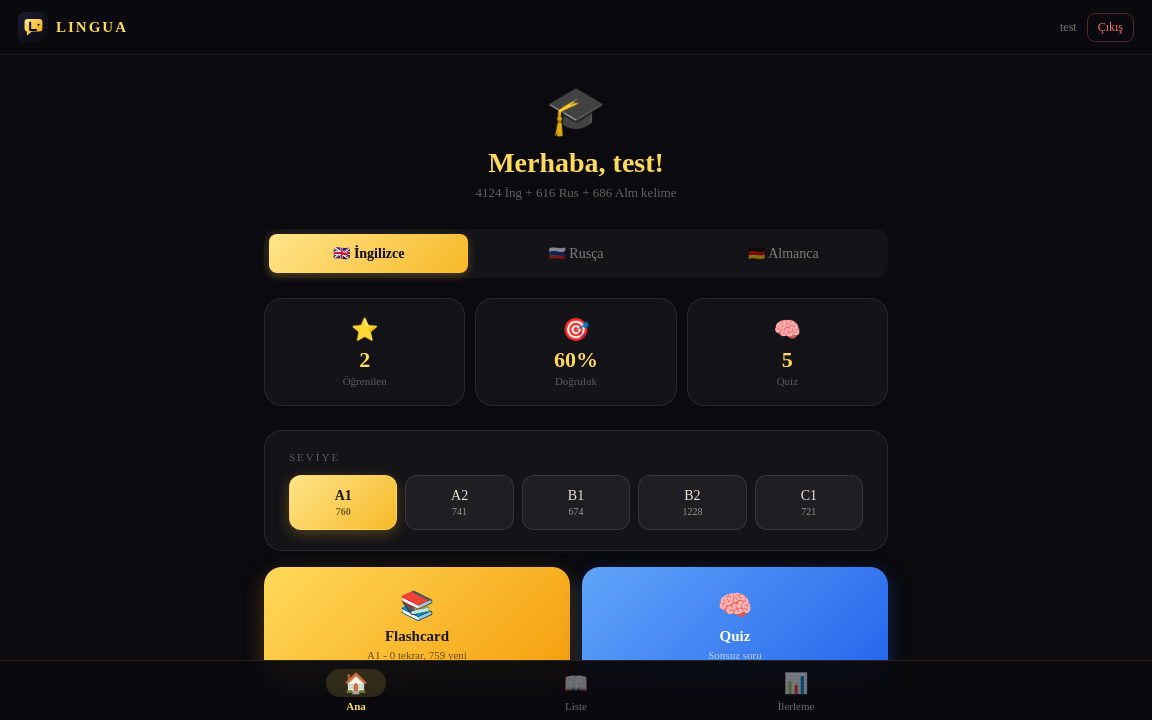
Test: klavye: Boşluk kartı çevirir, 2 puanlar
Click the button "📚 Flashcard A1 - 0 tekrar, 759 yeni" at (417, 625), box [264, 567, 570, 683]
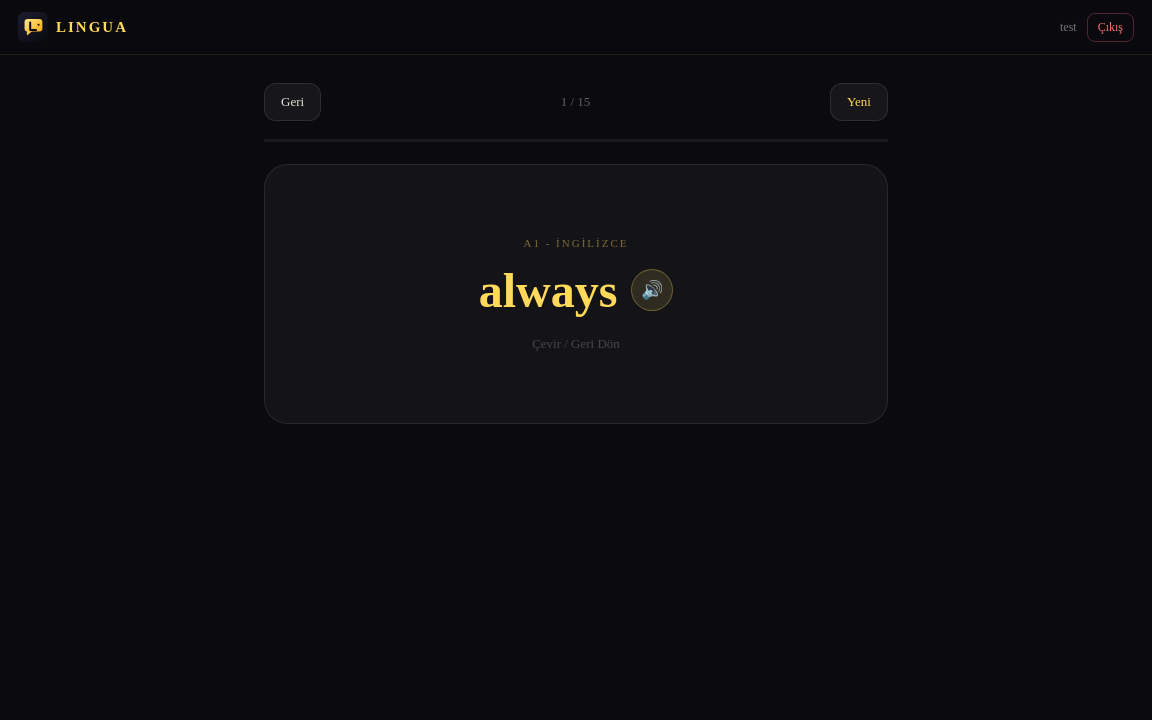
Press Space
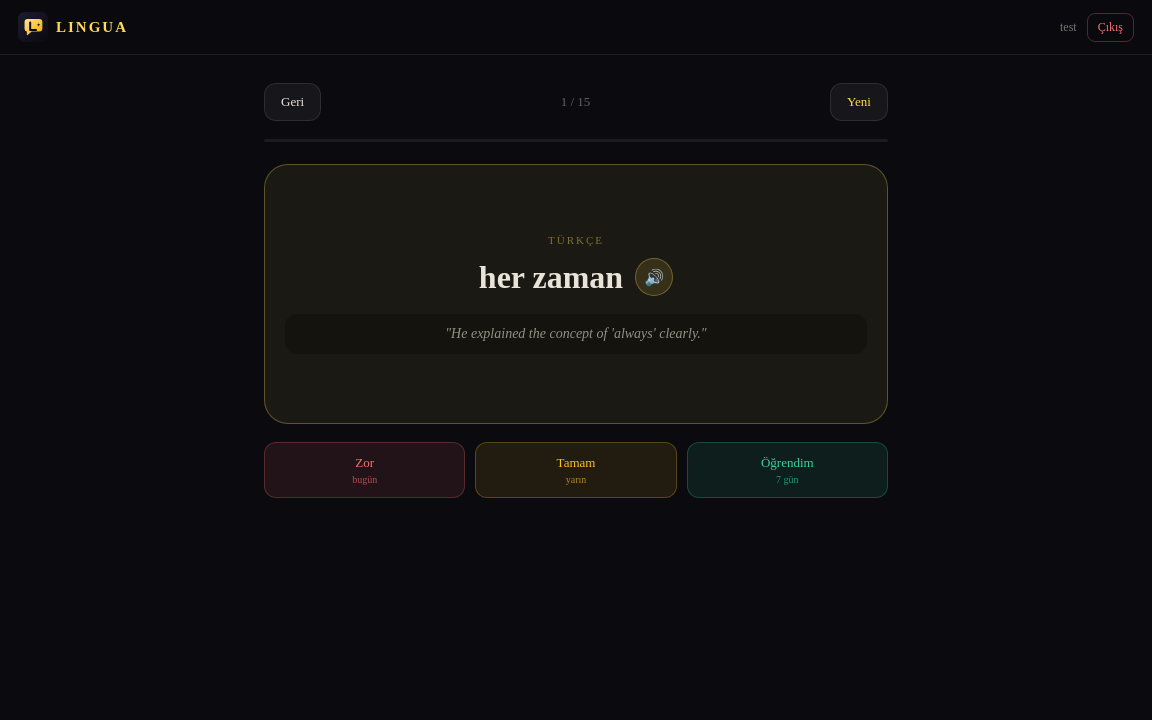
Check: the button "Öğrendim 7 gün" is shown, box [687, 442, 888, 498]
Press 2
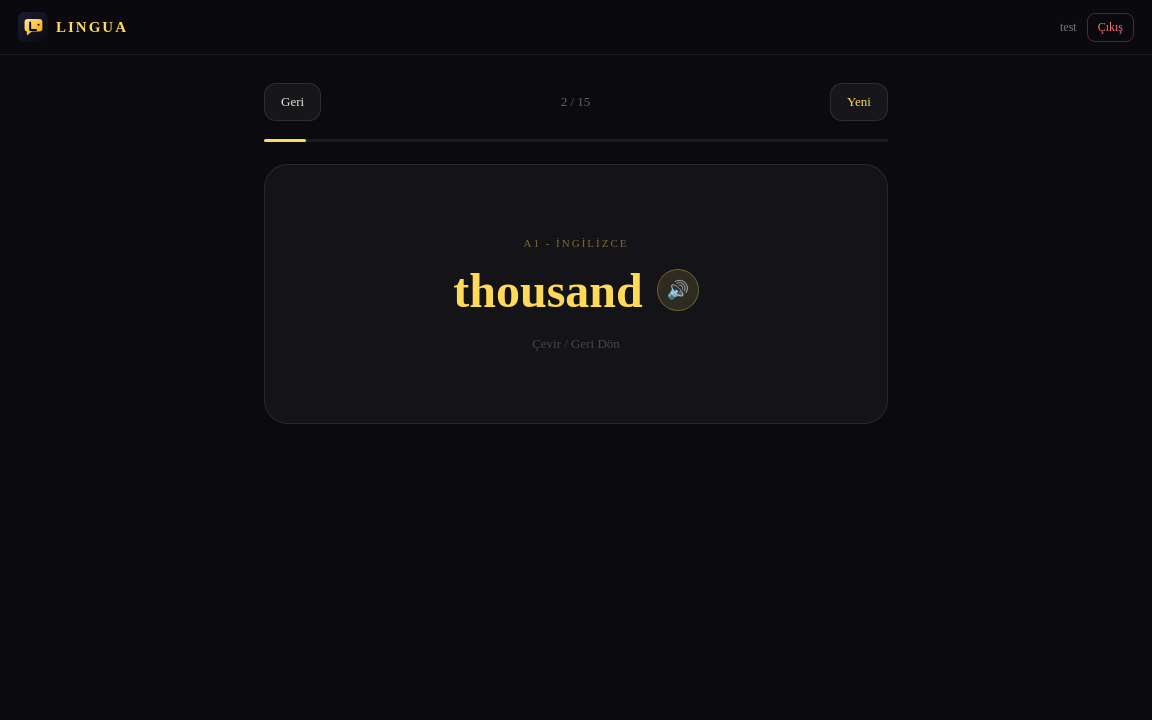
Check: the text "2 / 15" is shown, box [561, 94, 590, 110]
